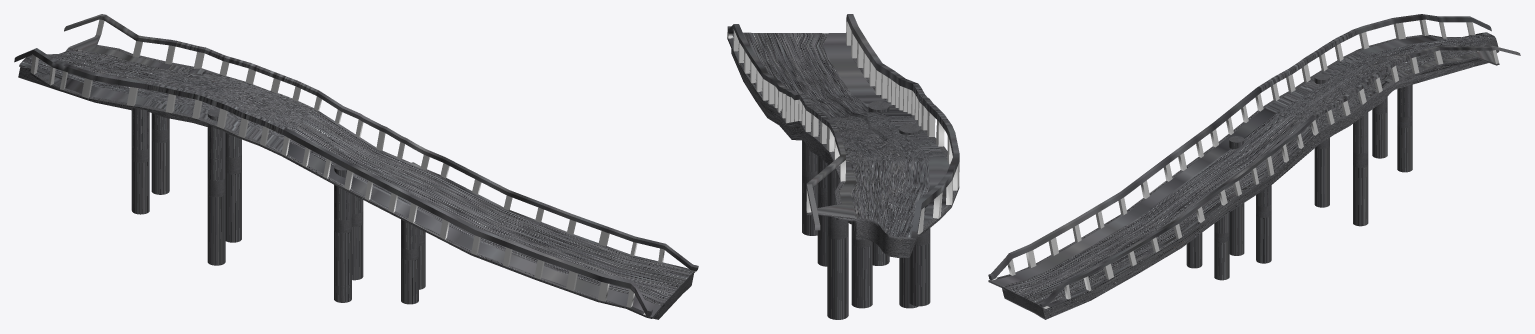
Rendered from Bridge.fbx.
3 renders of one model, left to right at view 1: azimuth 30°, elevation 25°; view 2: azimuth 150°, elevation 25°; view 3: azimuth 270°, elevation 25°, orthographic. The views are drawn at different scales.
Parts seen in each view (by area): view 1: Cube, Cylinder.005, Cylinder.002, Cylinder.001, Cylinder, Cylinder.004, Cylinder.003, Cylinder.006; view 2: Cube, Cylinder, Cylinder.004, Cylinder.001, Cylinder.007, Cylinder.006, Cylinder.005, Cylinder.002; view 3: Cube, Cylinder, Cylinder.004, Cylinder.005, Cylinder.006, Cylinder.007, Cylinder.002, Cylinder.001, Cylinder.003.
Boxes of the visible parts, x1,y1,x2,y2 form: Cube: (14,14,698,319); Cylinder.005: (207,109,225,265); Cylinder.002: (334,164,351,302); Cylinder.001: (131,108,149,214); Cylinder: (225,133,241,242); Cylinder.004: (151,113,169,194); Cylinder.003: (401,219,418,304); Cylinder.006: (352,194,363,280); Cube: (727,14,959,257); Cylinder: (827,163,848,319); Cylinder.004: (851,221,872,308); Cylinder.001: (909,228,930,306); Cylinder.007: (802,140,817,235); Cylinder.006: (817,156,827,266); Cylinder.005: (899,124,920,308); Cylinder.002: (868,101,889,265); Cube: (988,14,1520,319); Cylinder: (1353,112,1368,226); Cylinder.004: (1397,84,1412,172); Cylinder.005: (1314,73,1329,207); Cylinder.006: (1256,185,1271,263); Cylinder.007: (1214,212,1229,280); Cylinder.002: (1229,136,1244,255); Cylinder.001: (1372,97,1387,158); Cylinder.003: (1186,233,1202,268).
Bounding box in the file's own units: 5414 × 2442 × 6900.
